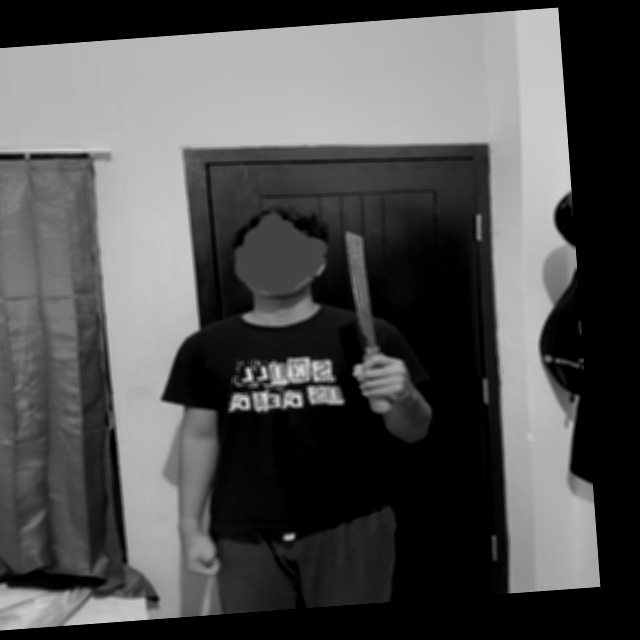Sharp-Object: (342, 228, 396, 417)
